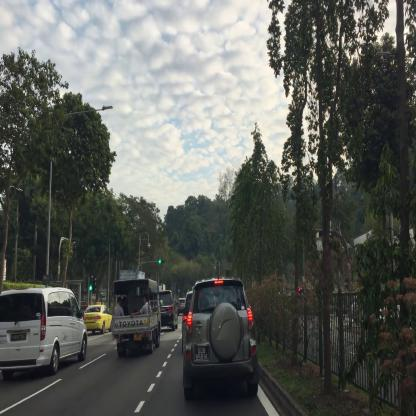green_traffic_light: (89, 275, 92, 291), (158, 259, 164, 264)
